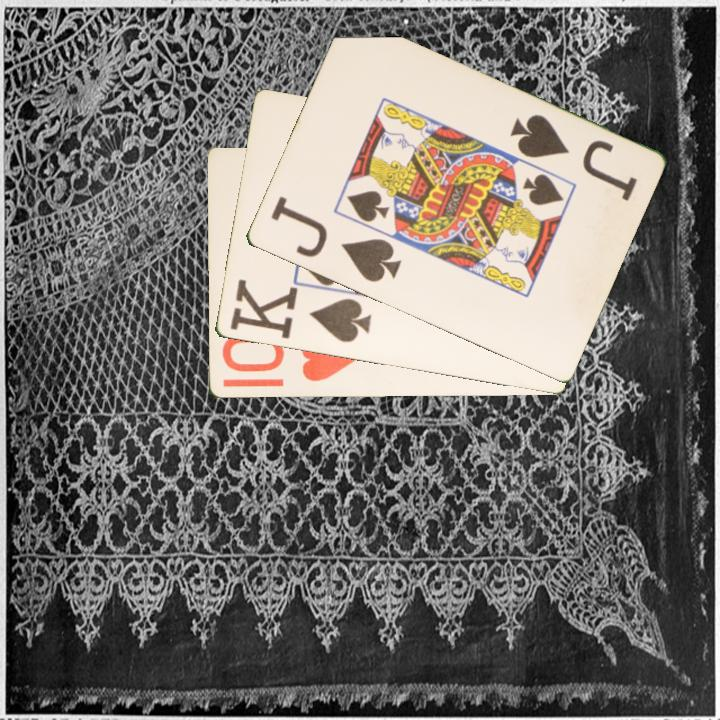10h: (217, 335, 360, 385)
Js: (267, 192, 405, 286), (505, 110, 640, 205)
Ks: (226, 277, 374, 346)
